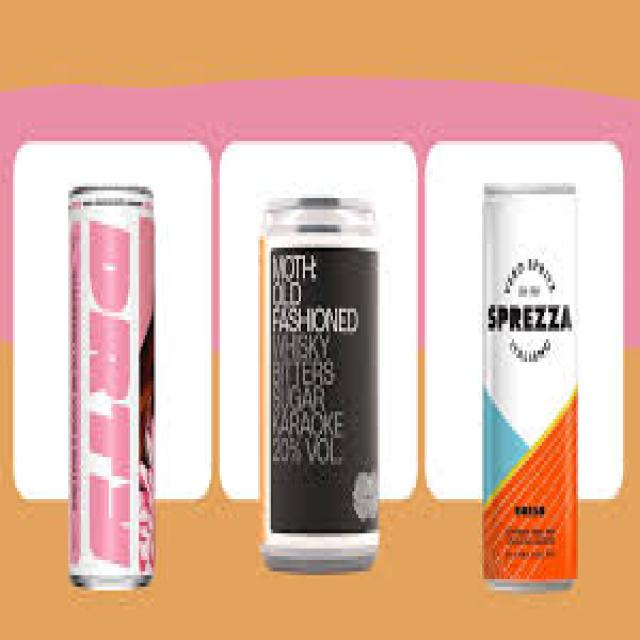Cans: (250, 179, 390, 587), (476, 164, 586, 606), (62, 171, 164, 602)
